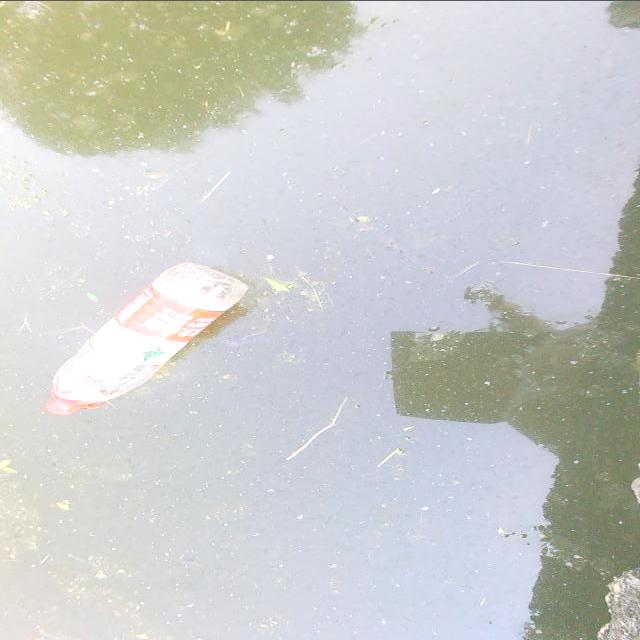bottle: (13, 242, 260, 434)
